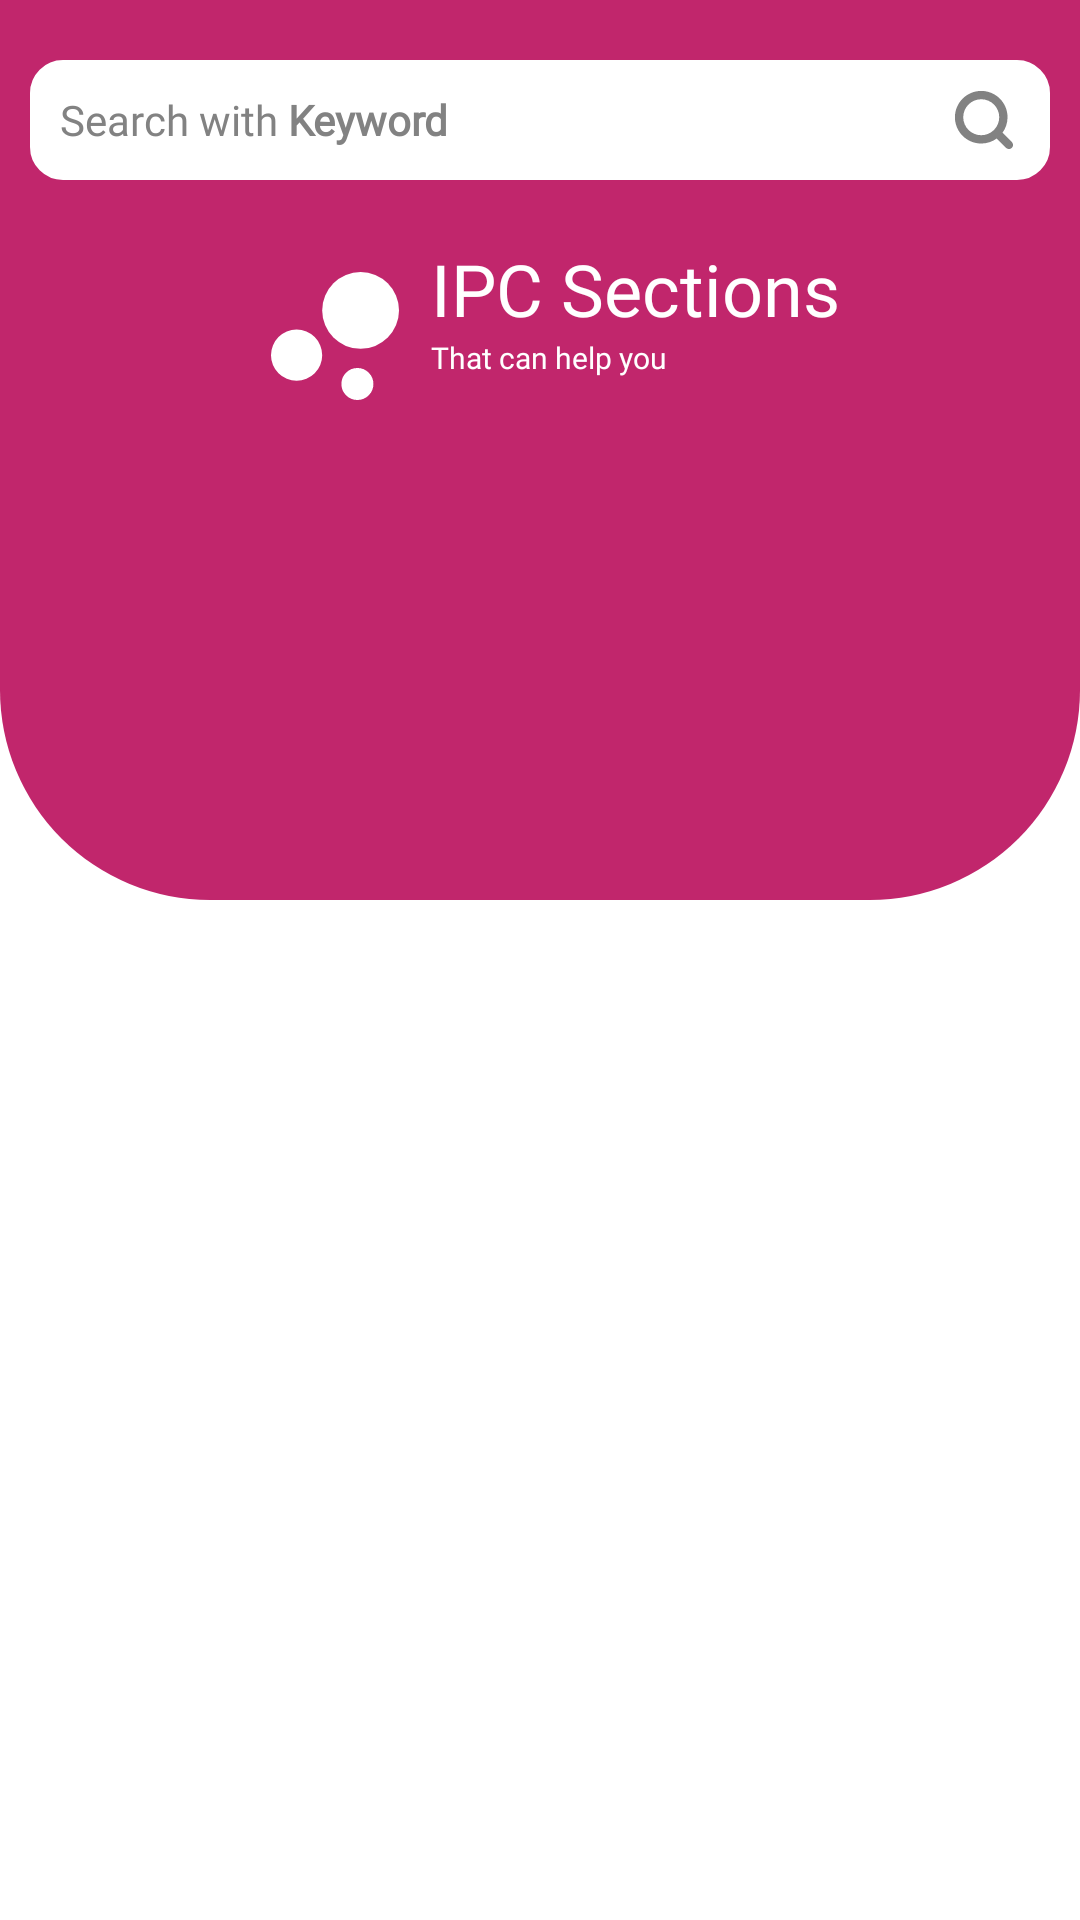

Icons on this 1080 x 1920 Android screen, each with the point to tap as (x,y):
bubble: (335,336)
